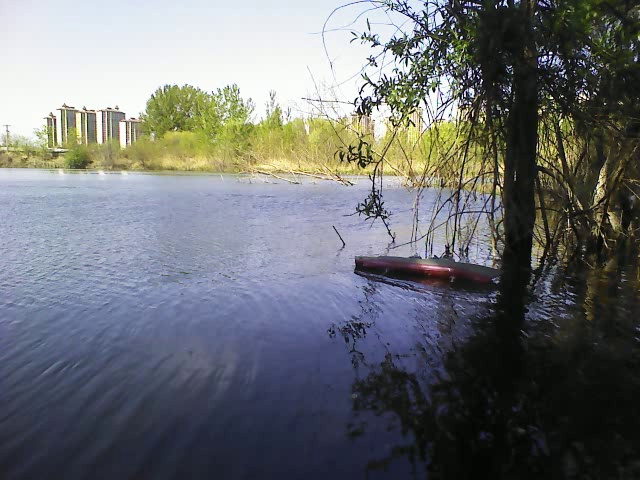warship: (355, 242, 504, 282)
